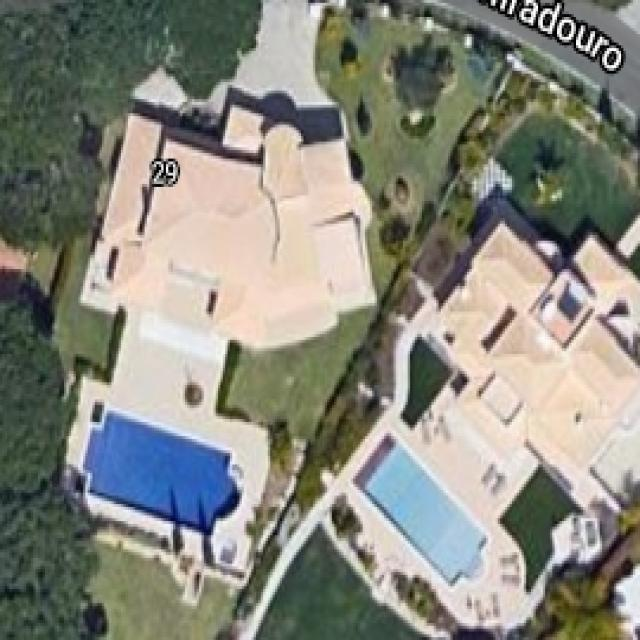pool: (327, 413, 523, 615), (52, 391, 275, 562)
